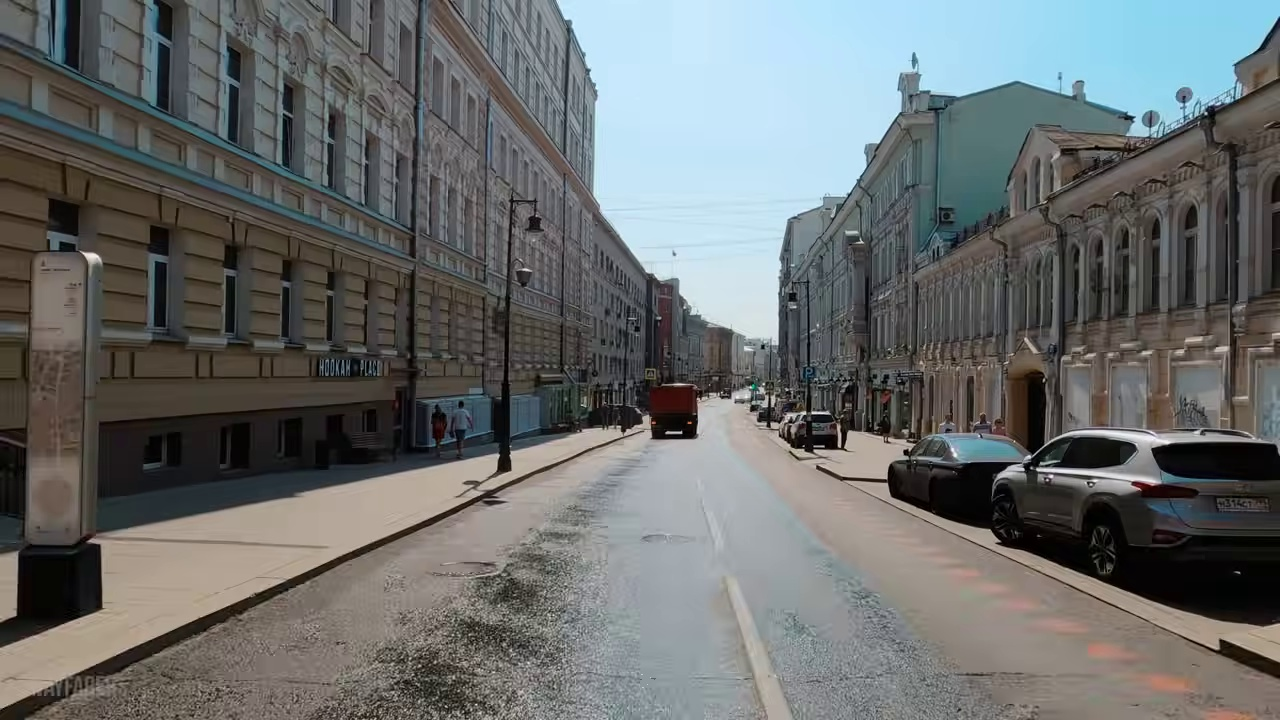apagada: (525, 216, 545, 244)
